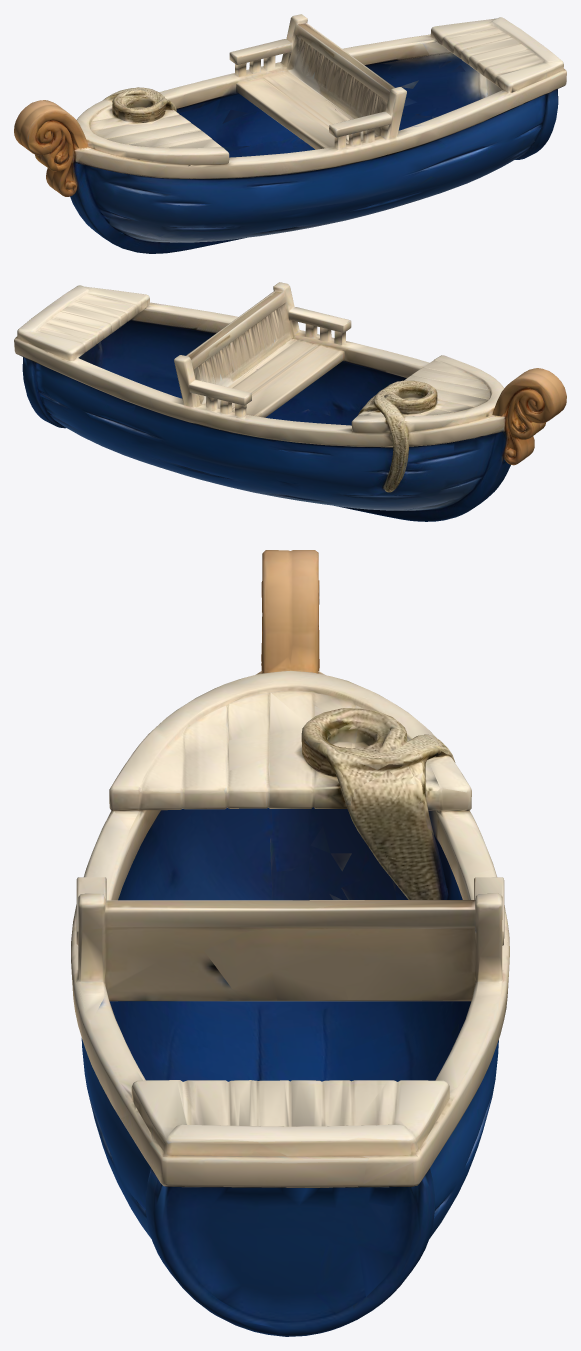
File: perahu-biru.glb
3 views of the same model, one above another, from view 1: azimuth 30°, elevation 25°; view 2: azimuth 150°, elevation 25°; view 3: azimuth 270°, elevation 25° (orthographic). The views are drawn at different scales.
Visible parts, largest first — view 1: node_0; view 2: node_0; view 3: node_0.
Boxes of the visible parts, box(x1,y1,x2,y2) form: node_0: box(14, 14, 566, 253); node_0: box(14, 282, 566, 521); node_0: box(71, 550, 509, 1336).
Bounding box in the file's own units: 1.16 × 0.3851 × 0.4277.
Materials: 1 (1 with a texture image).
